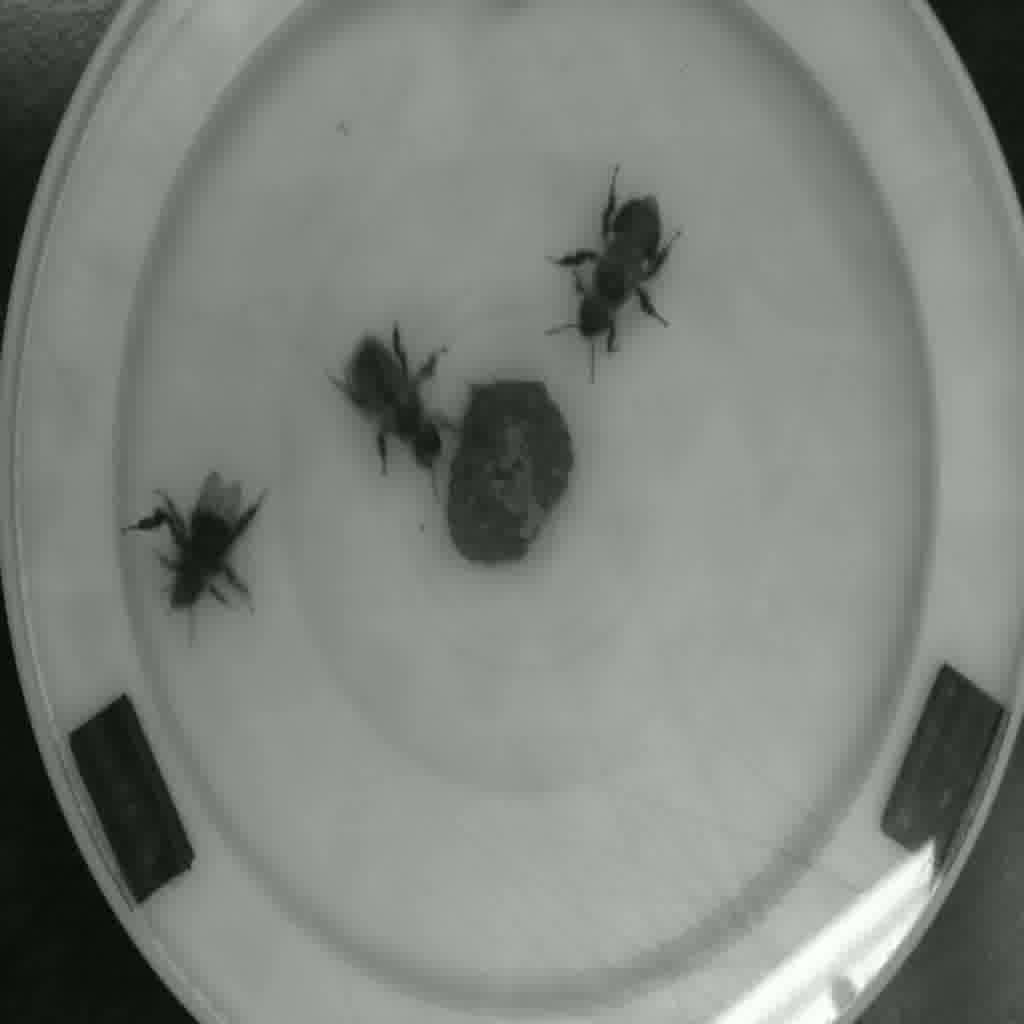bee: (570, 155, 681, 366), (320, 344, 468, 484), (137, 482, 277, 626)
